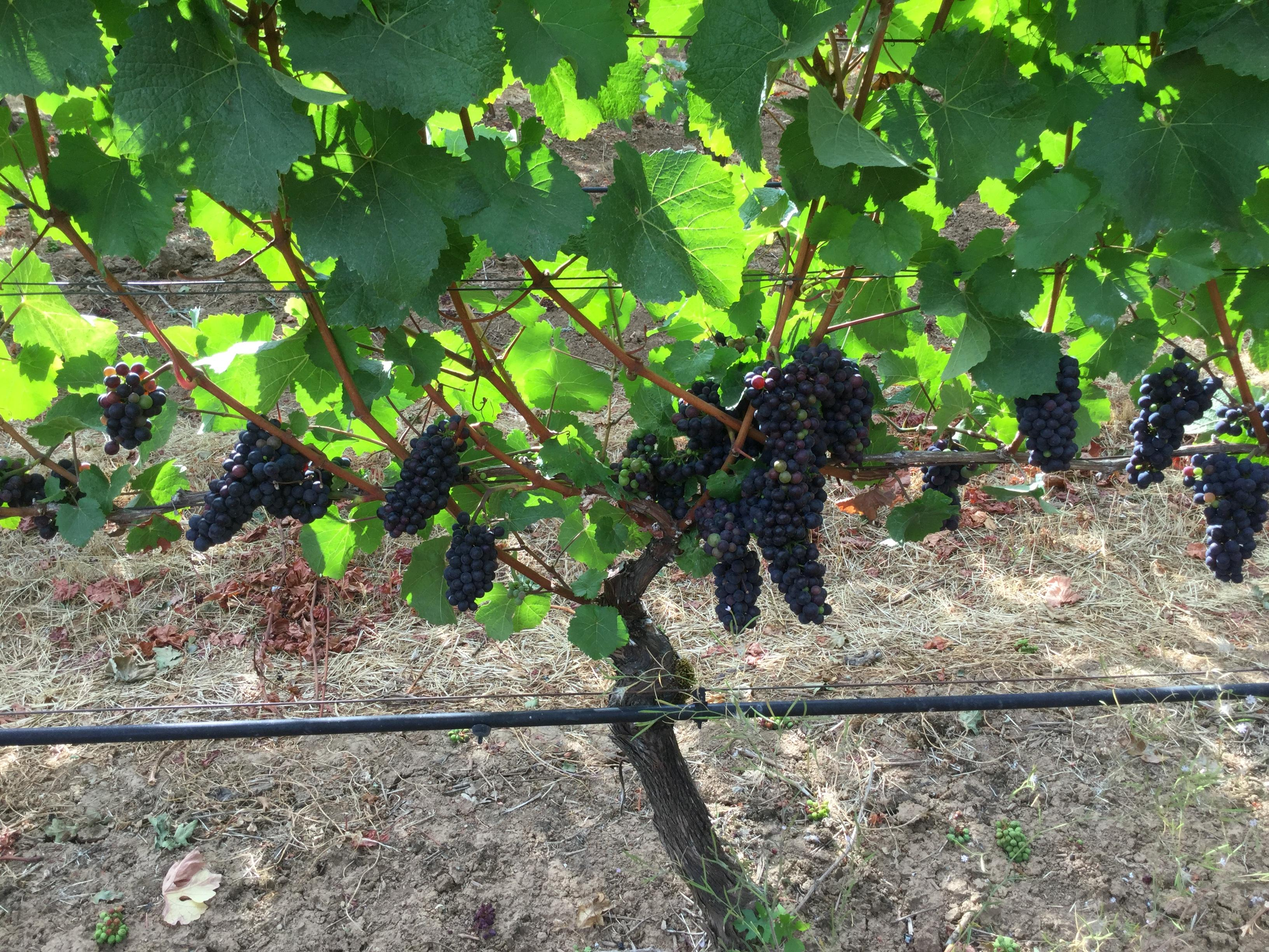leaf: (111, 3, 313, 211), (285, 105, 485, 303), (1075, 51, 1268, 234), (685, 0, 853, 168), (588, 142, 746, 307), (286, 0, 503, 119), (912, 27, 1046, 206), (459, 118, 593, 258), (685, 0, 789, 167), (47, 133, 177, 263), (778, 99, 926, 213), (0, 249, 117, 368), (497, 0, 626, 98), (528, 40, 645, 139), (0, 0, 105, 96), (505, 322, 612, 412), (1009, 171, 1105, 268), (194, 332, 310, 411), (807, 86, 911, 167), (1167, 0, 1268, 79), (972, 315, 1061, 397), (322, 259, 409, 330), (1054, 0, 1165, 52), (1068, 318, 1159, 380), (847, 200, 921, 276), (1066, 260, 1134, 335), (400, 535, 456, 624), (967, 255, 1043, 318), (557, 497, 618, 569), (1150, 229, 1222, 290), (0, 345, 57, 420), (475, 583, 550, 640), (538, 428, 610, 487), (27, 394, 105, 446), (191, 311, 276, 357), (620, 374, 678, 438), (886, 492, 959, 542), (383, 327, 444, 386), (299, 513, 355, 577), (567, 604, 628, 659), (918, 260, 968, 317), (130, 460, 190, 505), (55, 497, 106, 548), (503, 490, 564, 531), (125, 514, 183, 554), (645, 0, 703, 35), (349, 500, 385, 553), (675, 535, 717, 578), (570, 568, 607, 598), (295, 0, 359, 17), (196, 387, 222, 410), (57, 434, 65, 442), (115, 123, 119, 129), (233, 425, 236, 428), (5, 268, 8, 270), (797, 53, 801, 54), (0, 265, 2, 266), (520, 0, 522, 1), (967, 321, 967, 323), (32, 256, 33, 256)
